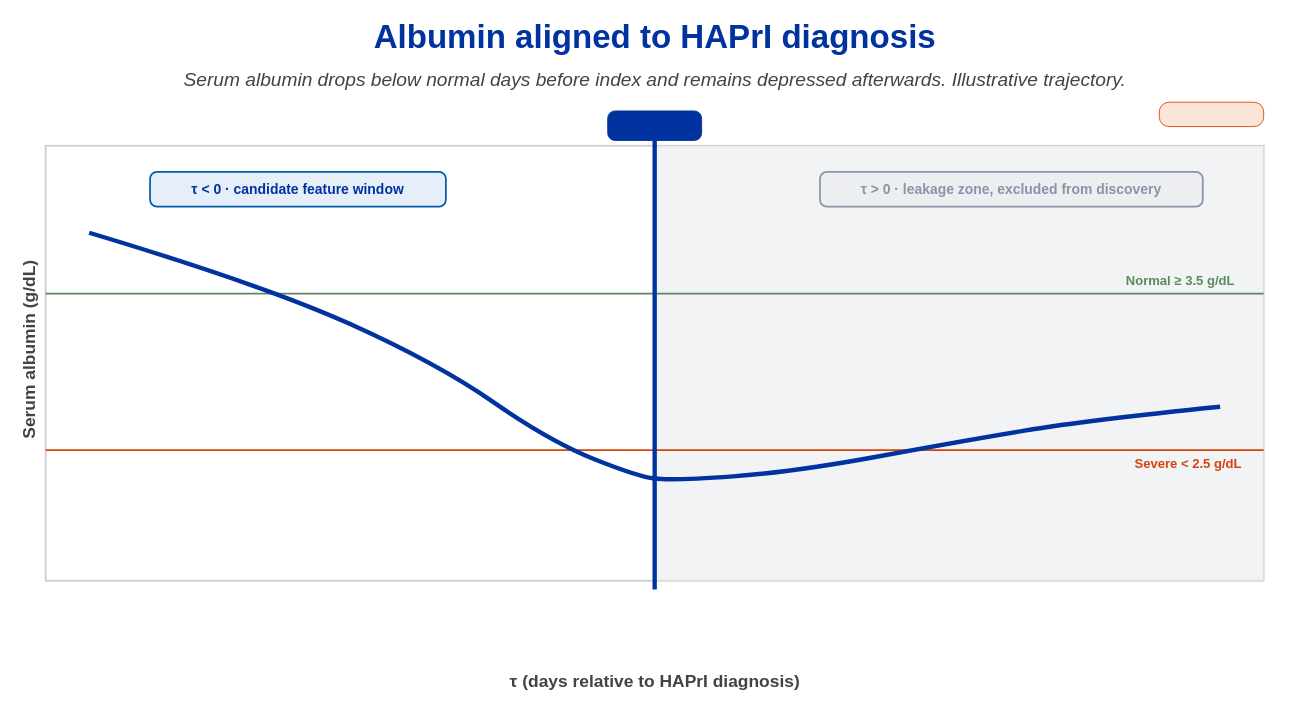
This 1304x708 diagram has some shape labels left out. Each missing label, with the centre of its shape:
HAPrI dx: point 654,125
ILLUSTRATIVE: point 1211,114
